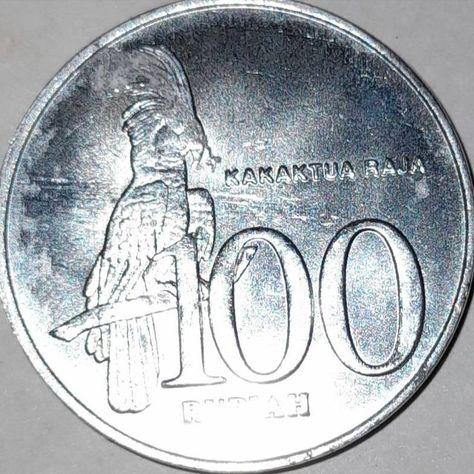coin_100_e1999: (2, 3, 474, 468)
